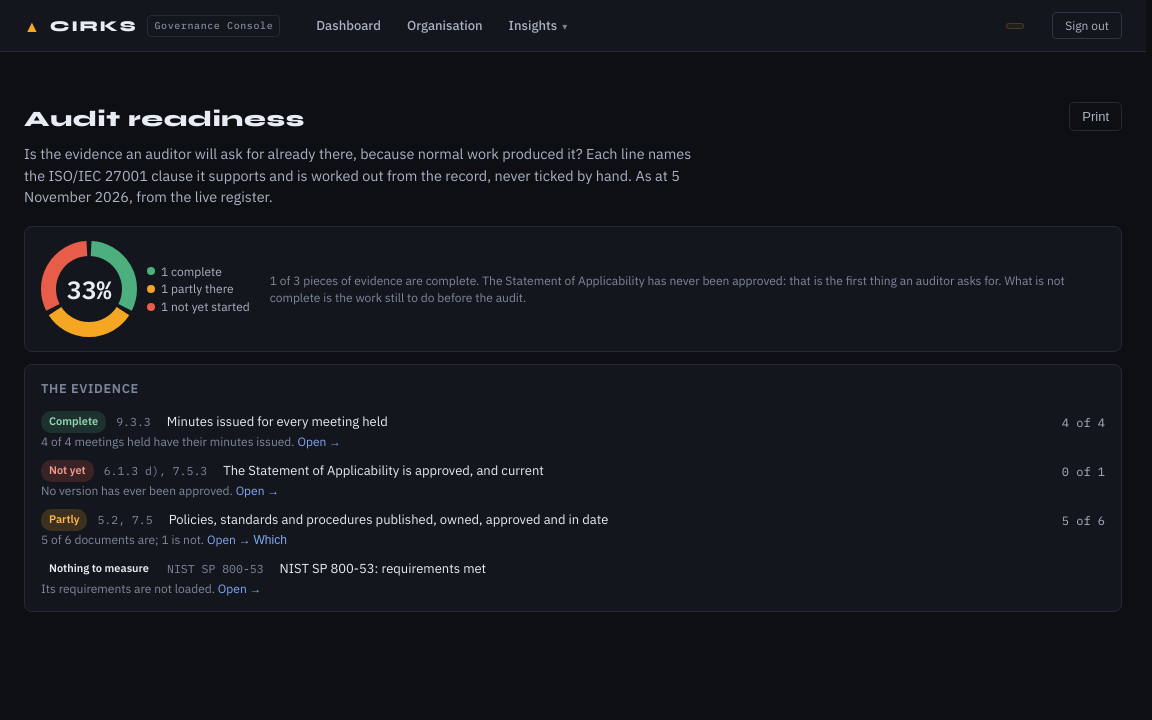
Test: Audit readiness › a line opens where the work is done, and lists what is not ready
Click the button "Which" at [270, 540], box [254,533,287,547]
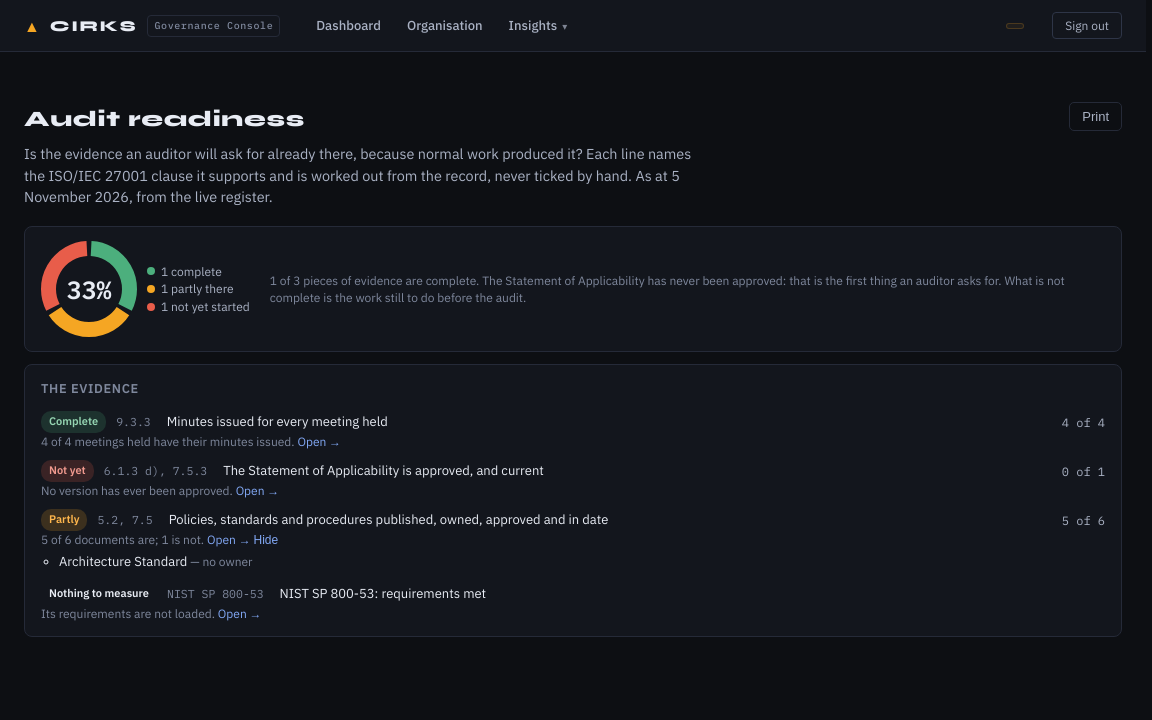
Expected: the list item "Architecture Standard" is shown, [59,553,187,570]
Expected: the text "— no owner" is shown, [187,554,252,569]
